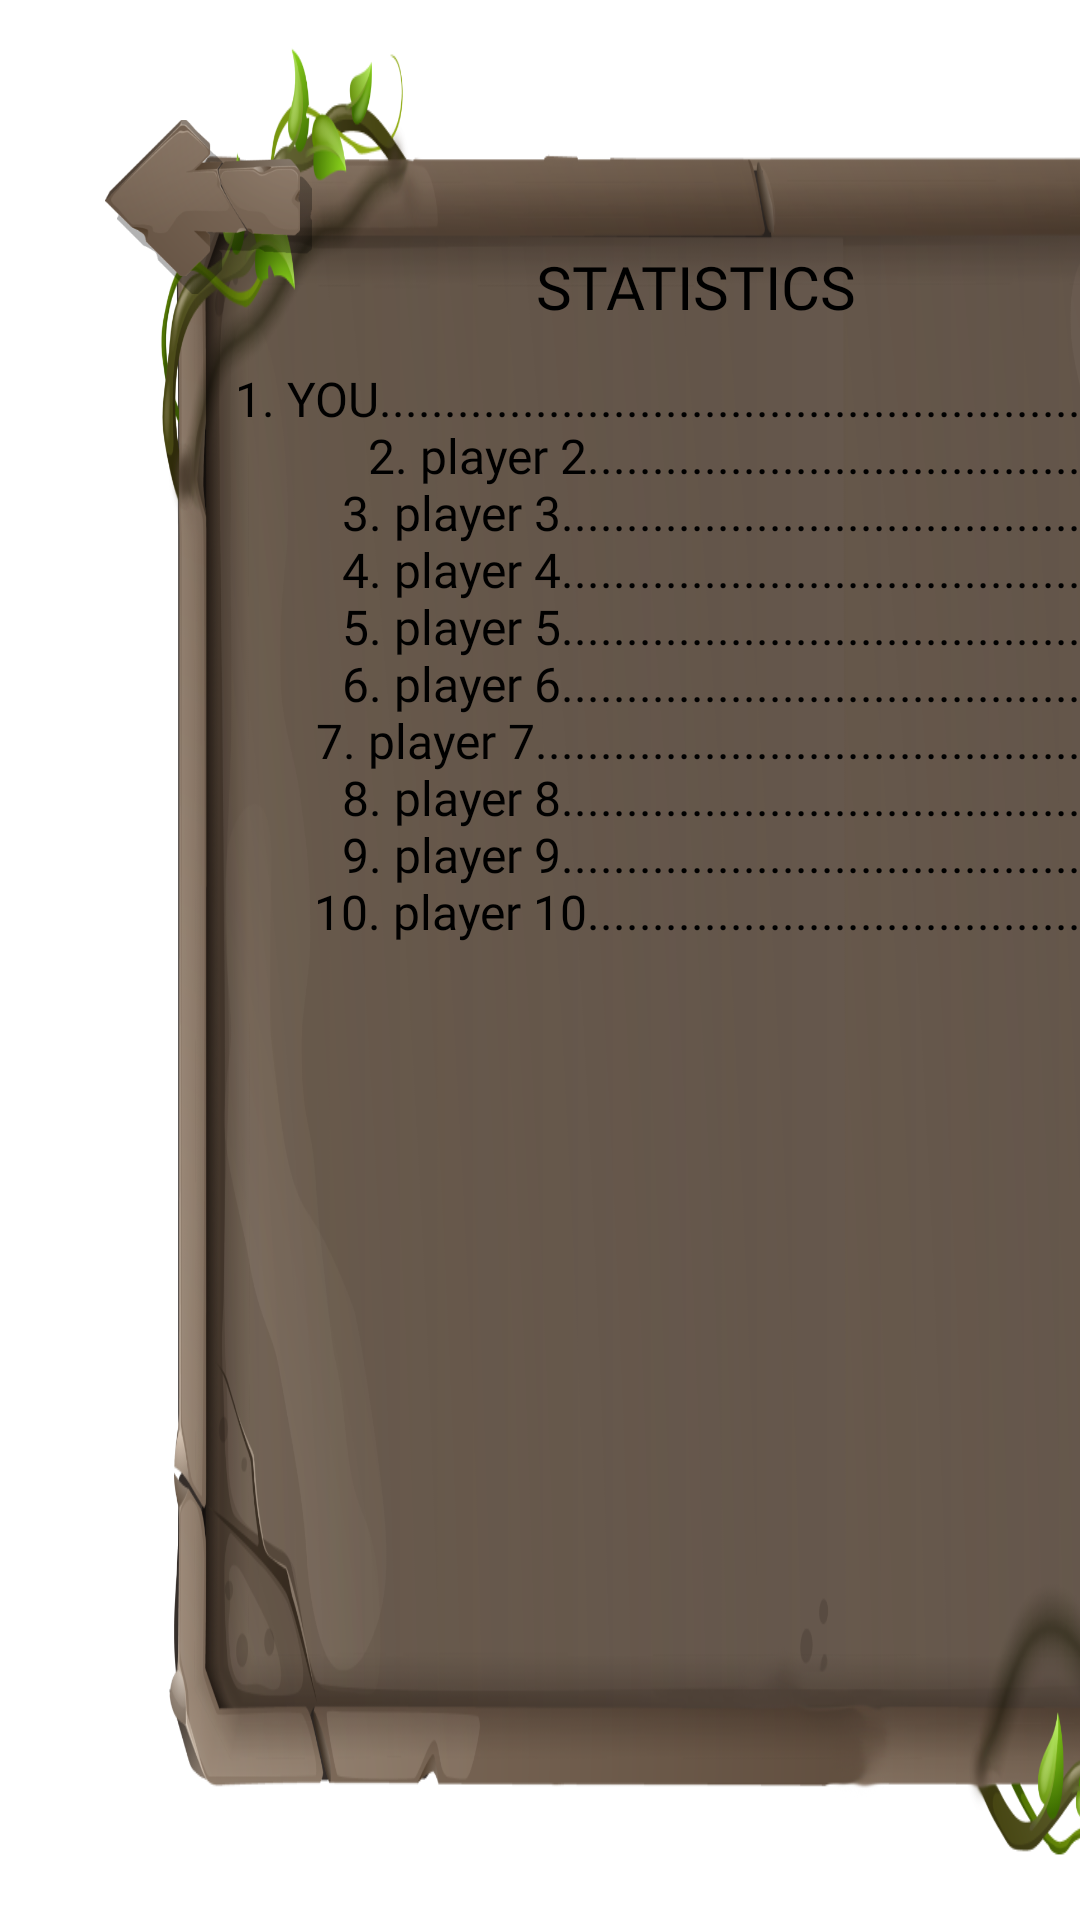

Screen size 1080px x 1920px. Icon name, then its center in pixels as (x,y):
back: (208,207)
